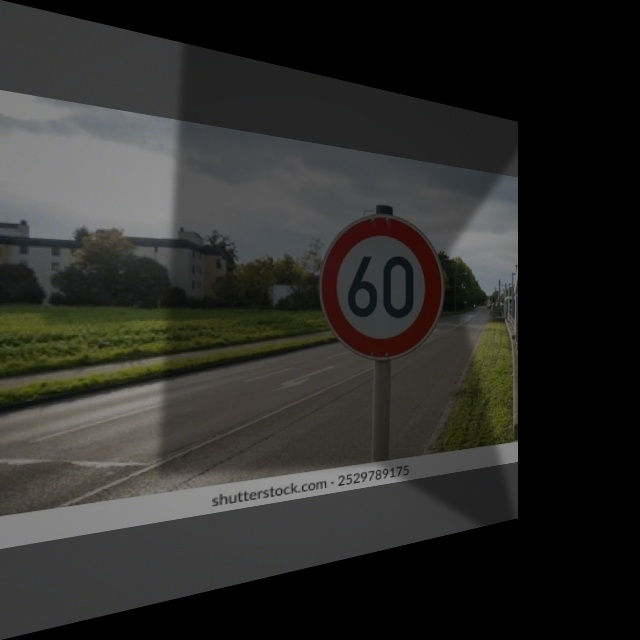Speed_Limit_60: (316, 207, 444, 359)
